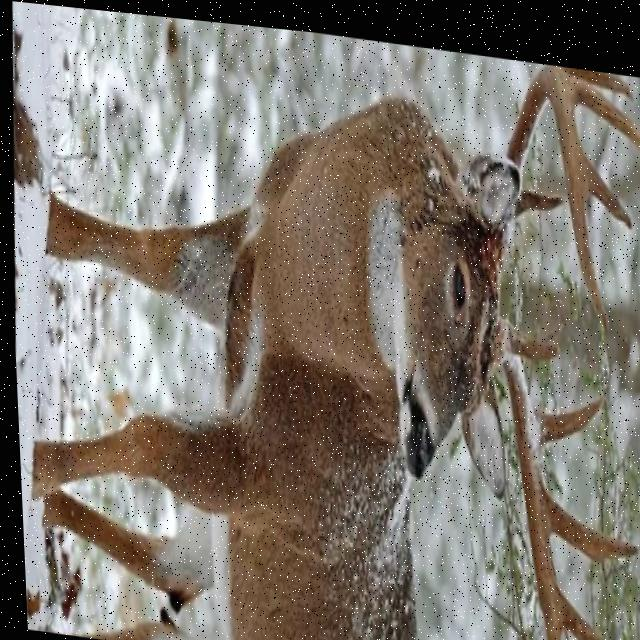L-G1: (511, 178, 561, 208)
L-G2: (557, 53, 633, 88)
L-G3: (560, 58, 640, 139)
L-G4: (584, 145, 631, 217)
R-F: (488, 304, 555, 640)
R-G1: (505, 312, 555, 348)
R-G2: (529, 382, 600, 437)
R-G3: (540, 479, 633, 550)
R-G4: (551, 575, 603, 640)
